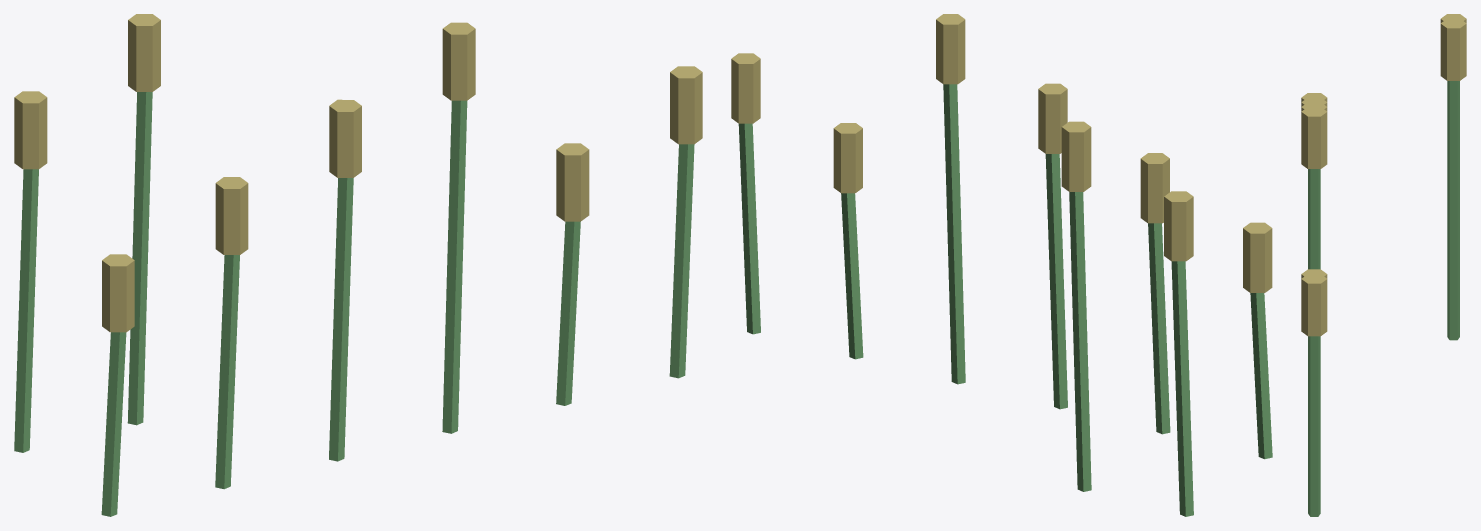
File: briarfen_reed_bed.lod1.glb
3 renders of one model, left to right at view 1: azimuth 30°, elevation 25°; view 2: azimuth 150°, elevation 25°; view 3: azimuth 270°, elevation 25°, orthographic. The views are drawn at different scales.
Size of the model in its own units: 1.89 by 1.21 by 0.57.
